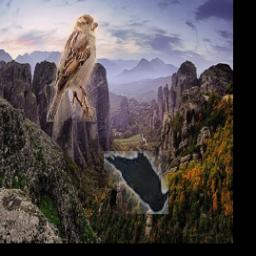Crow: (104, 151, 168, 214)
Sparrow: (47, 15, 98, 122)
